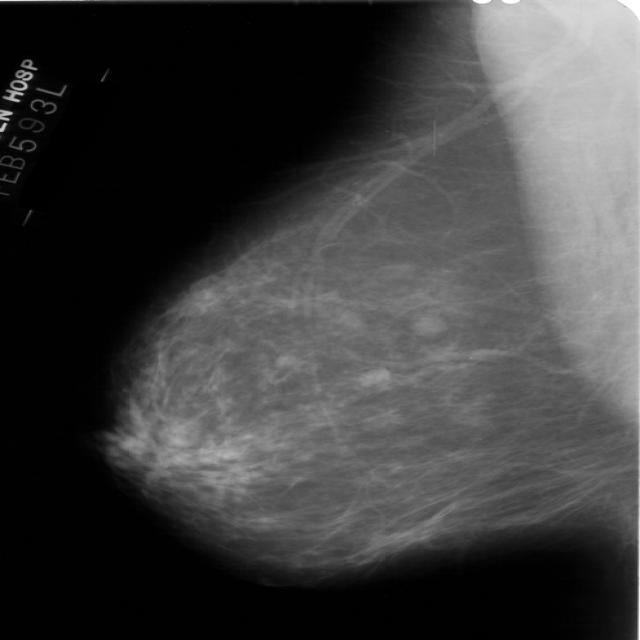tumour: (355, 366, 388, 386)
